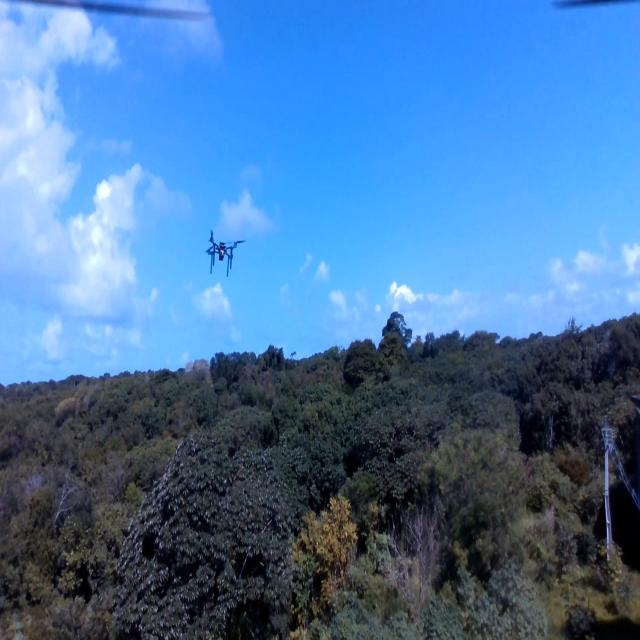-uav-: (202, 220, 248, 288)
